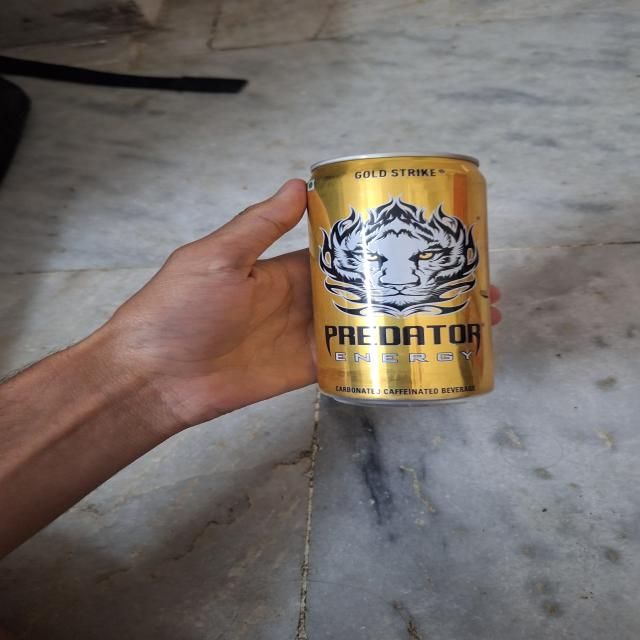Predator: (298, 148, 506, 404)
